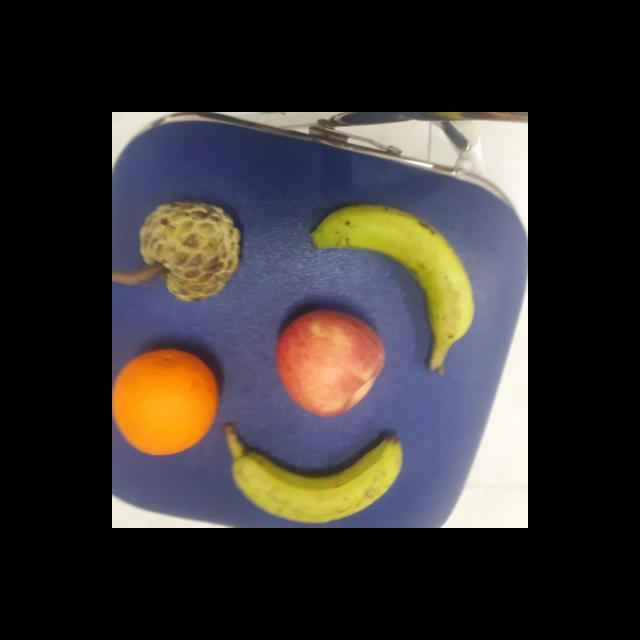Sakya fruit: (136, 197, 242, 304)
apple: (276, 304, 386, 418)
banana: (308, 204, 474, 374), (225, 422, 410, 528)
orange: (112, 344, 232, 457)
